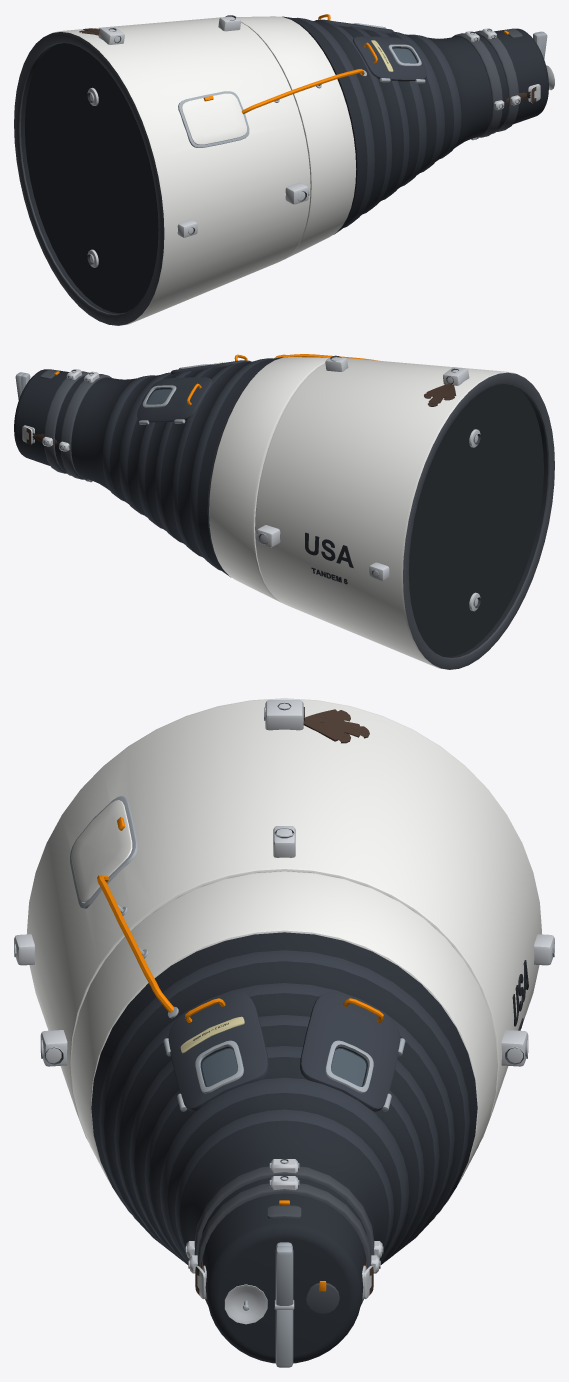
File: tandem8.glb
The picture shows the model from 3 angles, top to bottom: view 1: azimuth 30°, elevation 25°; view 2: azimuth 150°, elevation 25°; view 3: azimuth 270°, elevation 25°; orthographic projection. The views are drawn at different scales.
Visible parts, largest first — view 1: Tandem_Adapter_Structure, Tandem_RM_Structure, Tandem_Retro_Structure, Tandem_Adapter_BayDoor, Tandem_RM_Hatch2, Tandem_RCS_RingB, Tandem_RCS_RingA, Tandem_Adapter_Handrail, Tandem_Adapter_ExperimentBay, Tandem_RM_Hatch1; view 2: Tandem_Adapter_Structure, Tandem_RM_Structure, Tandem_Retro_Structure, Tandem_RM_Hatch1, Tandem_RCS_RingB, Tandem_RCS_RingA, Tandem_OAMS_T08_StuckScorched, Tandem_RM_Hatch2; view 3: Tandem_Adapter_Structure, Tandem_RM_Structure, Tandem_Retro_Structure, Tandem_RM_Hatch1, Tandem_RM_Hatch2, Tandem_Adapter_BayDoor, Tandem_RCS_RingB, Tandem_RCS_RingA, Tandem_Nose_DockingBar_Overstress, Tandem_Adapter_Handrail, Tandem_OAMS_T08_StuckScorched, Tandem_Nose_Radar (+2 smaller).
Part boxes in pixels (<box>): Tandem_Adapter_Structure: <box>14,16,310,325</box>; Tandem_RM_Structure: <box>282,16,548,234</box>; Tandem_Retro_Structure: <box>237,16,356,258</box>; Tandem_Adapter_BayDoor: <box>181,93,246,144</box>; Tandem_RM_Hatch2: <box>353,36,427,83</box>; Tandem_RCS_RingB: <box>452,31,504,140</box>; Tandem_RCS_RingA: <box>474,28,520,133</box>; Tandem_Adapter_Handrail: <box>241,69,366,114</box>; Tandem_Adapter_ExperimentBay: <box>178,91,249,147</box>; Tandem_RM_Hatch1: <box>314,14,393,33</box>; Tandem_Adapter_Structure: <box>255,357,554,669</box>; Tandem_RM_Structure: <box>14,357,282,577</box>; Tandem_Retro_Structure: <box>209,357,328,602</box>; Tandem_RM_Hatch1: <box>137,377,212,424</box>; Tandem_RCS_RingB: <box>59,371,112,482</box>; Tandem_RCS_RingA: <box>42,369,89,475</box>; Tandem_OAMS_T08_StuckScorched: <box>424,376,456,406</box>; Tandem_RM_Hatch2: <box>171,354,250,374</box>; Tandem_Adapter_Structure: <box>14,698,554,1141</box>; Tandem_RM_Structure: <box>91,932,477,1363</box>; Tandem_Retro_Structure: <box>71,871,497,1204</box>; Tandem_RM_Hatch1: <box>300,992,405,1111</box>; Tandem_RM_Hatch2: <box>163,992,268,1111</box>; Tandem_Adapter_BayDoor: <box>71,800,132,903</box>; Tandem_RCS_RingB: <box>185,1159,383,1258</box>; Tandem_RCS_RingA: <box>188,1176,380,1305</box>; Tandem_Nose_DockingBar_Overstress: <box>274,1246,294,1367</box>; Tandem_Adapter_Handrail: <box>97,875,178,1018</box>; Tandem_OAMS_T08_StuckScorched: <box>303,707,369,743</box>; Tandem_Nose_Radar: <box>224,1284,267,1324</box>.
Size of the model in its own units: 4 by 2.4 by 2.4.
2 materials, 1 textured.
